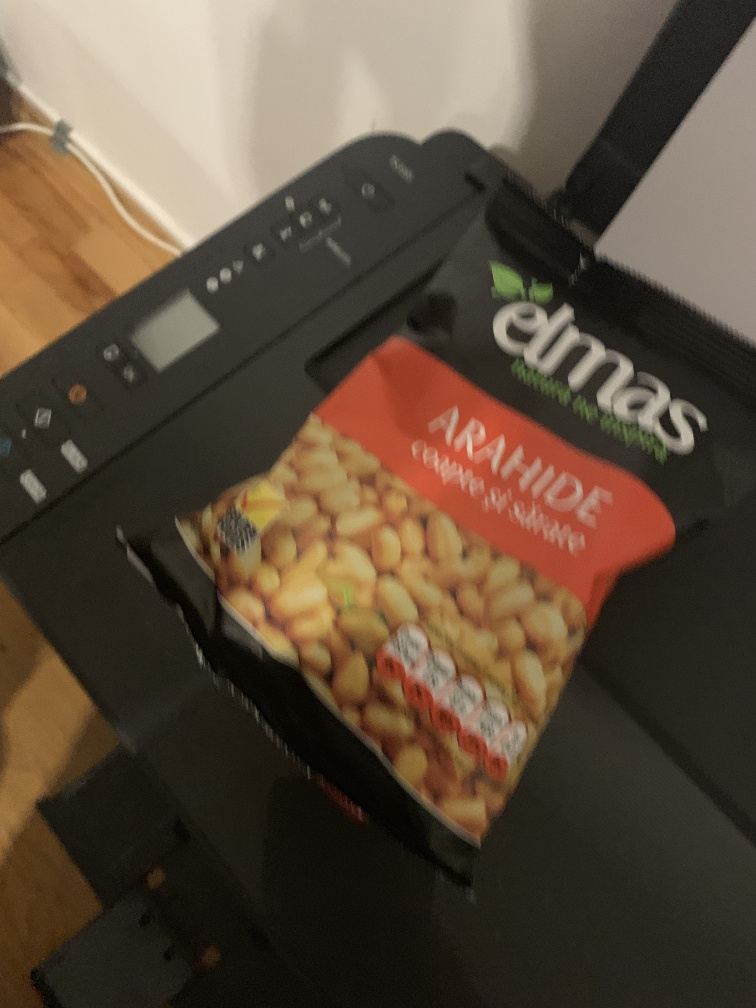peanuts: (110, 186, 756, 870)
